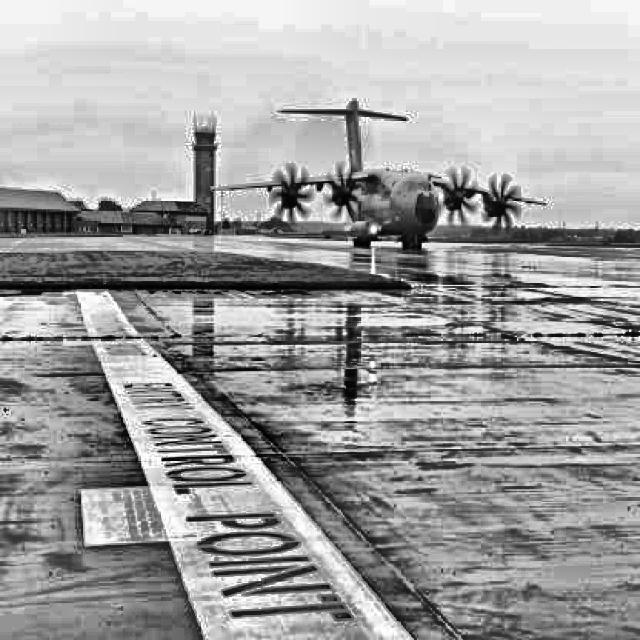A400M: (210, 98, 547, 250)
